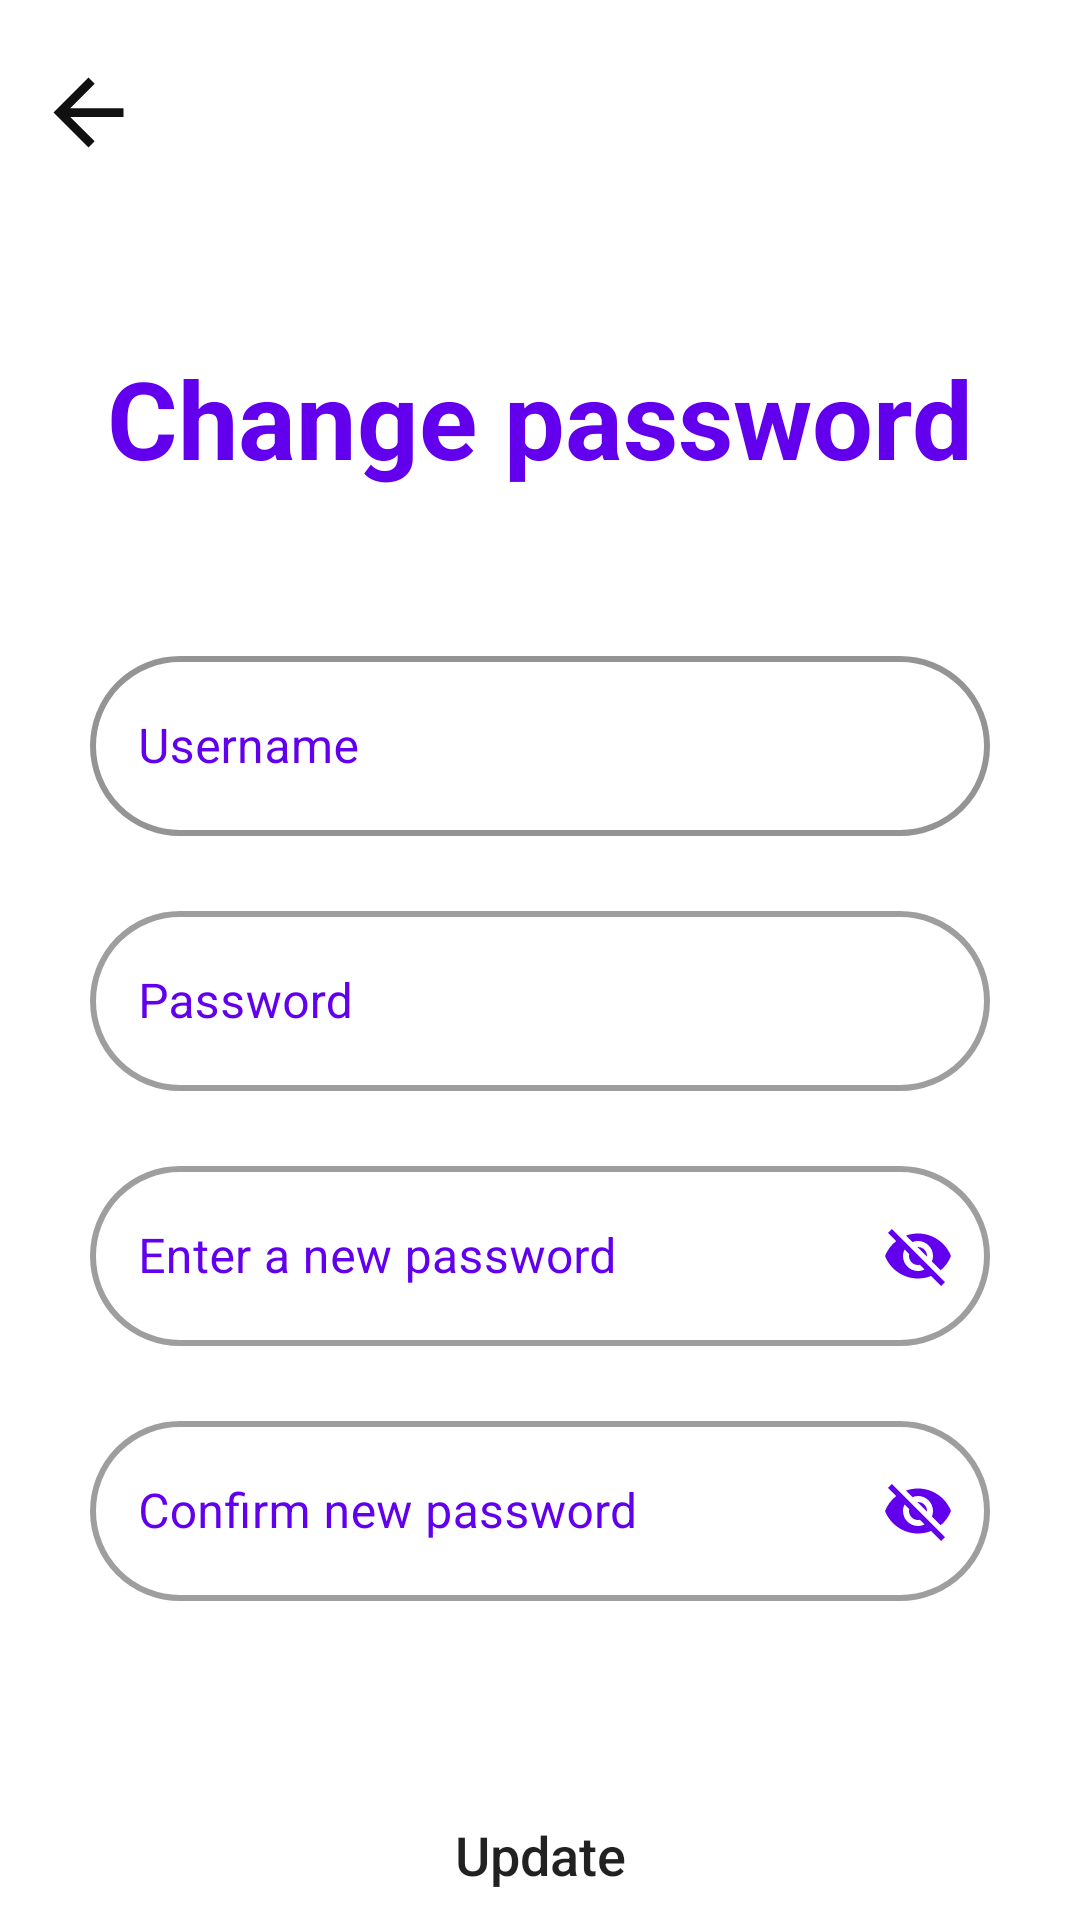

Where to tap for icons on this 1080w x 1920h app screen, as [x,y]:
arrow back: [88,112]
